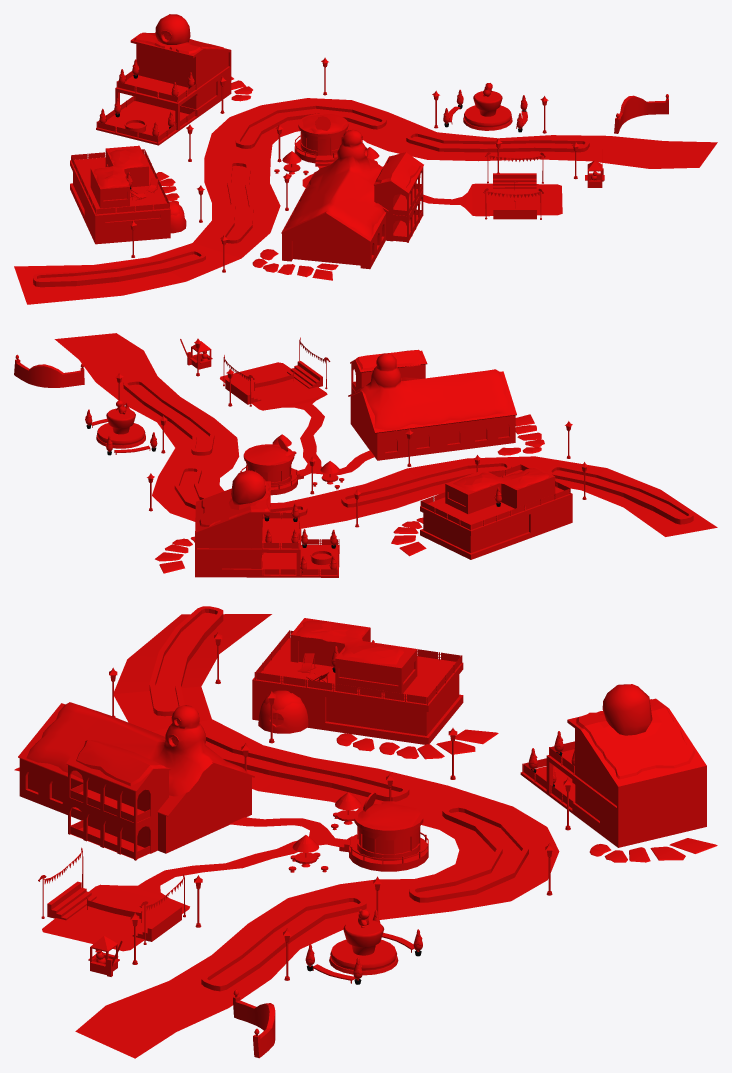
File: Neighborhood_BeverlyChills_02.glb
The picture shows the model from 3 angles, top to bottom: view 1: azimuth 30°, elevation 25°; view 2: azimuth 150°, elevation 25°; view 3: azimuth 270°, elevation 25°; orthographic projection. The views are drawn at different scales.
Parts seen in each view (by area): view 1: BeverlyChillsRoad_02, polySurface154, Building_LuxuryHouse2Story1, Object_RoadIslands, Building_LuxuryHouse3, Building_RoundCoffeeShop1, Building_TennisCourt, Object_Pavement, BeverlyChillsRoad_01, Object_Fountain1, polySurface155, Building_TennisCourt1; view 2: BeverlyChillsRoad_02, polySurface154, Building_LuxuryHouse2Story1, Building_LuxuryHouse3, Object_RoadIslands, BeverlyChillsRoad_01, Object_Pavement, Building_TennisCourt, Building_RoundCoffeeShop1, Object_Fountain1, polySurface155, Building_Ramp (+1 smaller); view 3: BeverlyChillsRoad_02, polySurface154, Building_LuxuryHouse2Story1, Building_LuxuryHouse3, Object_RoadIslands, Building_RoundCoffeeShop1, BeverlyChillsRoad_01, Building_TennisCourt, Object_Pavement, Object_Fountain1, Building_Igloo6, polySurface155 (+2 smaller).
Boxes of the visible parts, x1,y1,x2,y2 form: BeverlyChillsRoad_02: (14,98,717,304); polySurface154: (281,129,423,269); Building_LuxuryHouse2Story1: (96,14,231,145); Object_RoadIslands: (33,104,589,287); Building_LuxuryHouse3: (70,145,170,244); Building_RoundCoffeeShop1: (294,113,348,166); Building_TennisCourt: (476,181,551,219); Object_Pavement: (156,76,338,280); BeverlyChillsRoad_01: (302,166,562,216); Object_Fountain1: (463,91,512,130); polySurface155: (614,95,668,133); Building_TennisCourt1: (493,173,536,188); BeverlyChillsRoad_02: (54,333,717,536); polySurface154: (348,349,516,460); Building_LuxuryHouse2Story1: (195,470,339,577); Building_LuxuryHouse3: (420,464,572,559); Object_RoadIslands: (123,380,693,524); BeverlyChillsRoad_01: (220,362,374,475); Object_Pavement: (155,414,544,573); Building_TennisCourt: (235,361,322,405); Building_RoundCoffeeShop1: (243,444,303,495); Object_Fountain1: (96,408,145,448); polySurface155: (14,359,84,387); Building_Ramp: (180,339,212,369); BeverlyChillsRoad_02: (75,614,559,1058); polySurface154: (18,702,254,860); Building_LuxuryHouse2Story1: (520,684,706,847); Building_LuxuryHouse3: (252,618,463,744); Object_RoadIslands: (149,606,528,991); Building_RoundCoffeeShop1: (339,801,428,871); BeverlyChillsRoad_01: (42,817,345,951); Building_TennisCourt: (47,881,170,942); Object_Pavement: (14,729,717,862); Object_Fountain1: (329,919,398,975); Building_Igloo6: (258,690,308,733); polySurface155: (233,995,275,1058).
Bounding box in the file's own units: 66.28 × 9.2 × 43.
